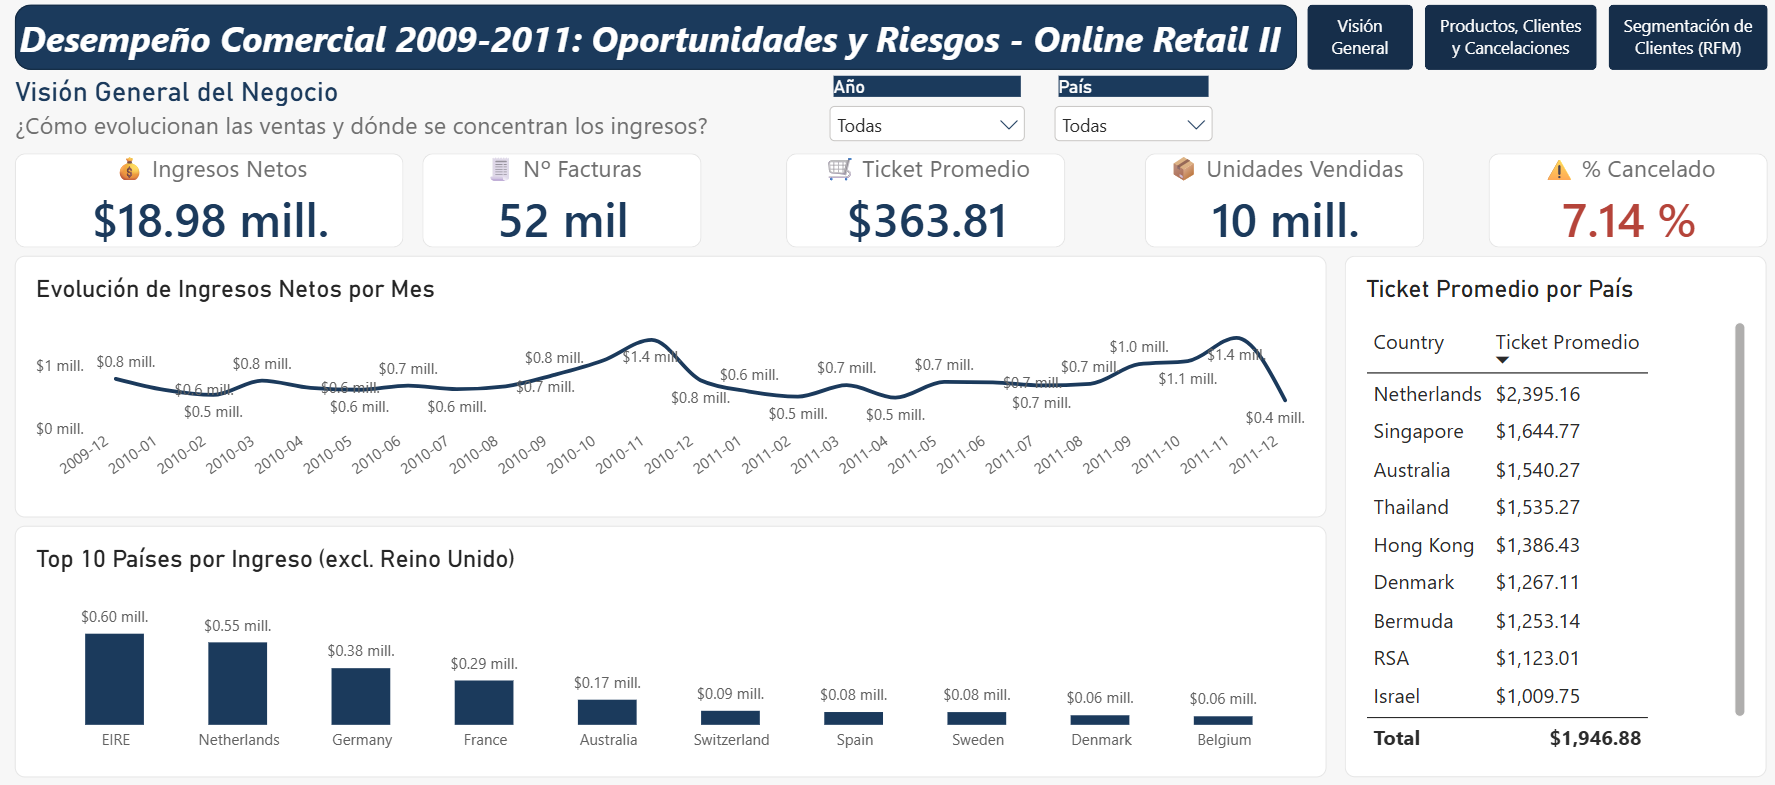

What the dashboard file says about the page in this screenshot:
{"tool":"powerbi","page":{"name":"Visión General","canvas":[1420,630],"ordinal":0},"visuals":[{"type":"cardVisual","fields":{"Data":["Medidas_DAX.Ingresos Netos"]},"box":[14.7,124.2,222.2,75.6],"z":0},{"type":"lineChart","title":"Evolución de Ingresos Netos por Mes","fields":{"Category":["Dim_Calendario.AñoMes"],"Y":["Medidas_DAX.Ingresos Netos"]},"box":[14.4,205.6,1042.2,207.8],"z":1000},{"type":"clusteredColumnChart","title":"Top 10 Países por Ingreso (excl. Reino Unido)","fields":{"Category":["Dim_Pais.Country"],"Y":["Medidas_DAX.Ingresos Netos"]},"box":[14.4,420,1042.2,200],"z":2000},{"type":"slicer","fields":{"Values":["Dim_Calendario.Año"]},"box":[658,63,165,61],"z":3000},{"type":"slicer","fields":{"Values":["Dim_Pais.Country"]},"box":[836,63,135,60],"z":4000},{"type":"tableEx","title":"Ticket Promedio por País","fields":{"Values":["Dim_Pais.Country","Medidas_DAX.Ticket Promedio"]},"box":[1072.2,205.6,335.6,414.4],"z":5000},{"type":"cardVisual","fields":{"Data":["Medidas_DAX.Nº Facturas"]},"box":[339.1,124.2,222.2,75.6],"z":6000},{"type":"cardVisual","fields":{"Data":["Medidas_DAX.Ticket Promedio"]},"box":[628,124.2,222.2,75.6],"z":7000},{"type":"cardVisual","fields":{"Data":["Medidas_DAX.Unidades Vendidas"]},"box":[912.4,124.2,222.2,75.6],"z":8000},{"type":"cardVisual","fields":{"Data":["Medidas_DAX.% Cancelado"]},"box":[1185.6,124.2,222.2,75.6],"z":9000},{"type":"textbox","title":"Visión General del Negocio","box":[14.7,63,591,56],"z":10000},{"type":"actionButton","box":[1042,6,84,52],"z":11000},{"type":"actionButton","box":[1135.6,5.6,136.7,52.2],"z":12000},{"type":"actionButton","box":[1281.1,5.6,126.7,52.2],"z":13000},{"type":"shape","box":[14.7,6,1019,52],"z":14000}]}

Visuals, with their boxes in screenshot pixels (x1, y1, x2, y2), scaled from the page's 1420x630 canvas onto the 1775x785 screenshot:
cardVisual - Medidas_DAX.Ingresos Netos: box(18, 155, 296, 249)
"Evolución de Ingresos Netos por Mes" lineChart: box(18, 256, 1321, 515)
"Top 10 Países por Ingreso (excl. Reino Unido)" clusteredColumnChart: box(18, 523, 1321, 773)
slicer - Dim_Calendario.Año: box(822, 78, 1029, 155)
slicer - Dim_Pais.Country: box(1045, 78, 1214, 153)
"Ticket Promedio por País" tableEx: box(1340, 256, 1760, 773)
cardVisual - Medidas_DAX.Nº Facturas: box(424, 155, 702, 249)
cardVisual - Medidas_DAX.Ticket Promedio: box(785, 155, 1063, 249)
cardVisual - Medidas_DAX.Unidades Vendidas: box(1140, 155, 1418, 249)
cardVisual - Medidas_DAX.% Cancelado: box(1482, 155, 1760, 249)
"Visión General del Negocio" textbox: box(18, 78, 757, 148)
actionButton: box(1302, 7, 1408, 72)
actionButton: box(1420, 7, 1590, 72)
actionButton: box(1601, 7, 1760, 72)
shape: box(18, 7, 1292, 72)
